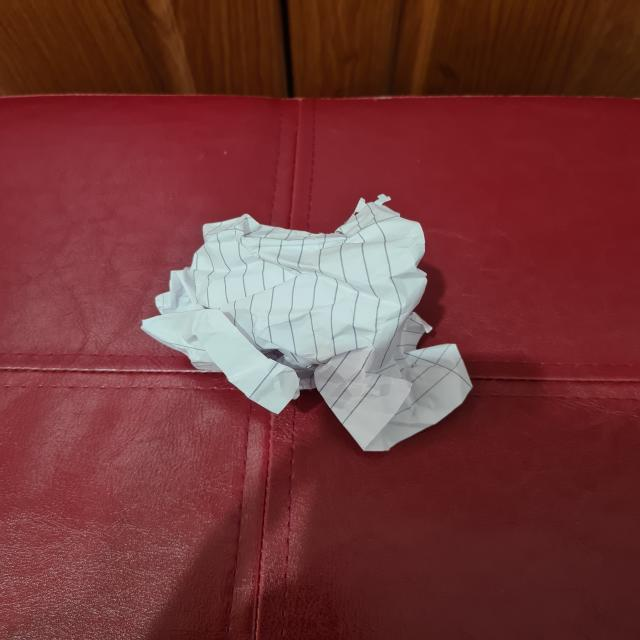Paper: (139, 197, 475, 453)
